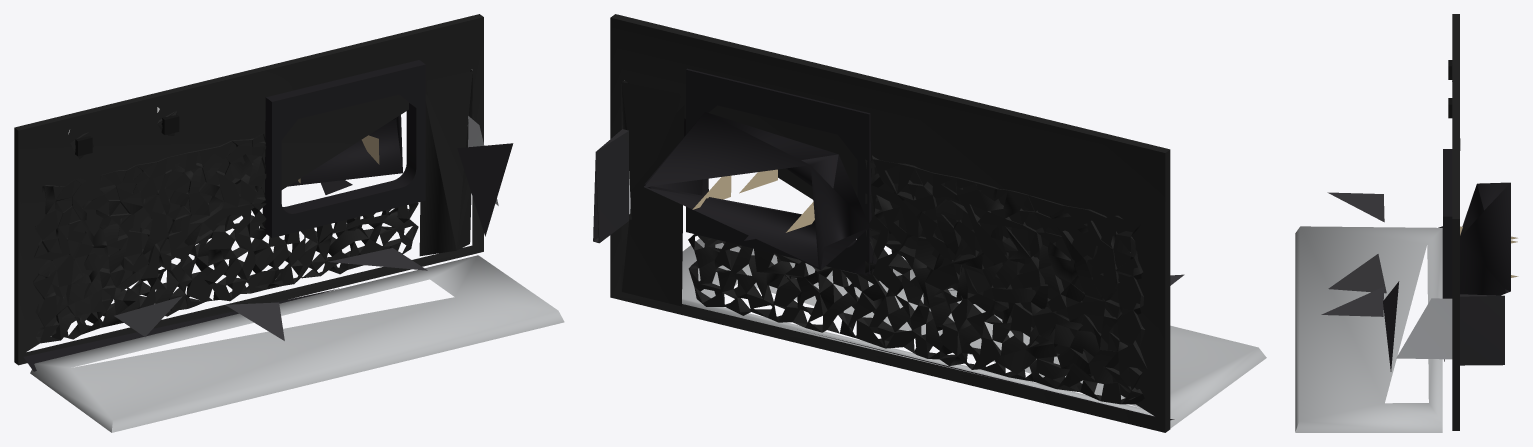
Rendered from PWR-C1-715WAC.far.glb.
The picture shows the model from 3 angles, left to right: view 1: azimuth 30°, elevation 25°; view 2: azimuth 150°, elevation 25°; view 3: azimuth 270°, elevation 25°; orthographic projection. The views are drawn at different scales.
Parts seen in each view (by area): view 1: Body_far; view 2: Body_far; view 3: Body_far.
Part boxes in pixels (bbox=[...]): Body_far: bbox=[14, 14, 564, 432]; Body_far: bbox=[593, 14, 1266, 432]; Body_far: bbox=[1295, 14, 1518, 432].
Bounding box in the file's own units: 0.083 × 0.0409 × 0.0383.
2 materials, 1 textured.
